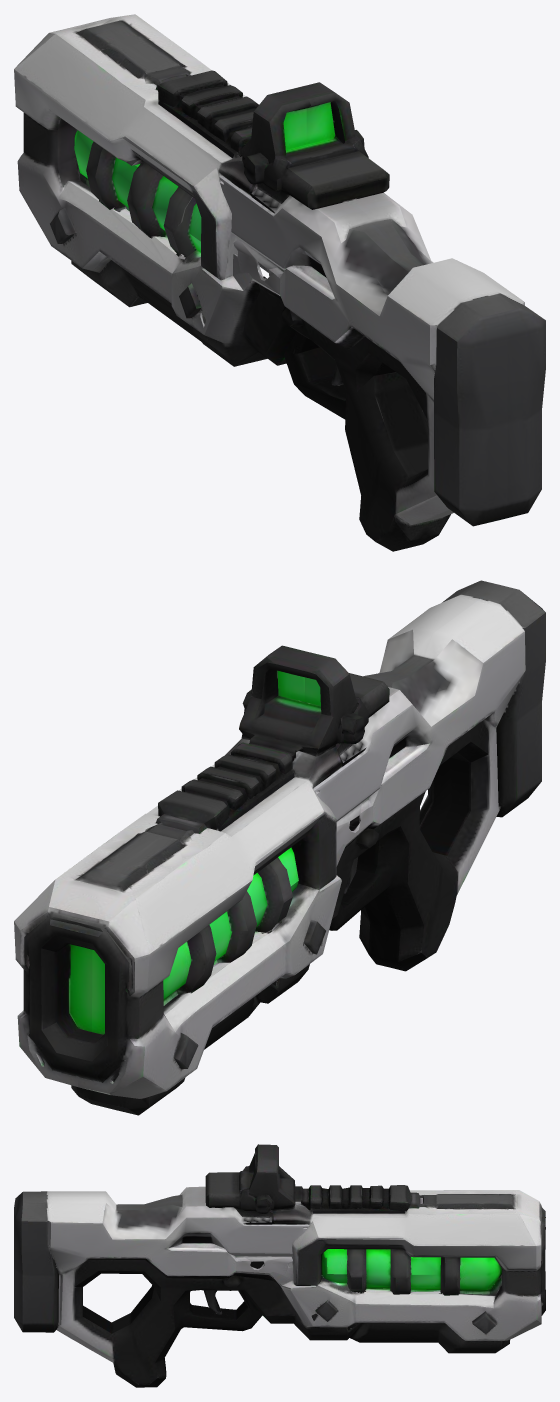
Rendered from plasma_rifle_low.glb.
3 renders of one model, top to bottom at view 1: azimuth 30°, elevation 25°; view 2: azimuth 150°, elevation 25°; view 3: azimuth 270°, elevation 25°, orthographic. The views are drawn at different scales.
Visible parts, largest first — view 1: world; view 2: world; view 3: world.
Boxes of the visible parts, x1,y1,x2,y2 form: world: (14,14,545,551); world: (14,580,545,1115); world: (14,1144,545,1387).
Bounding box in the file's own units: 0.19 × 0.4802 × 1.
1 material, 1 textured.
